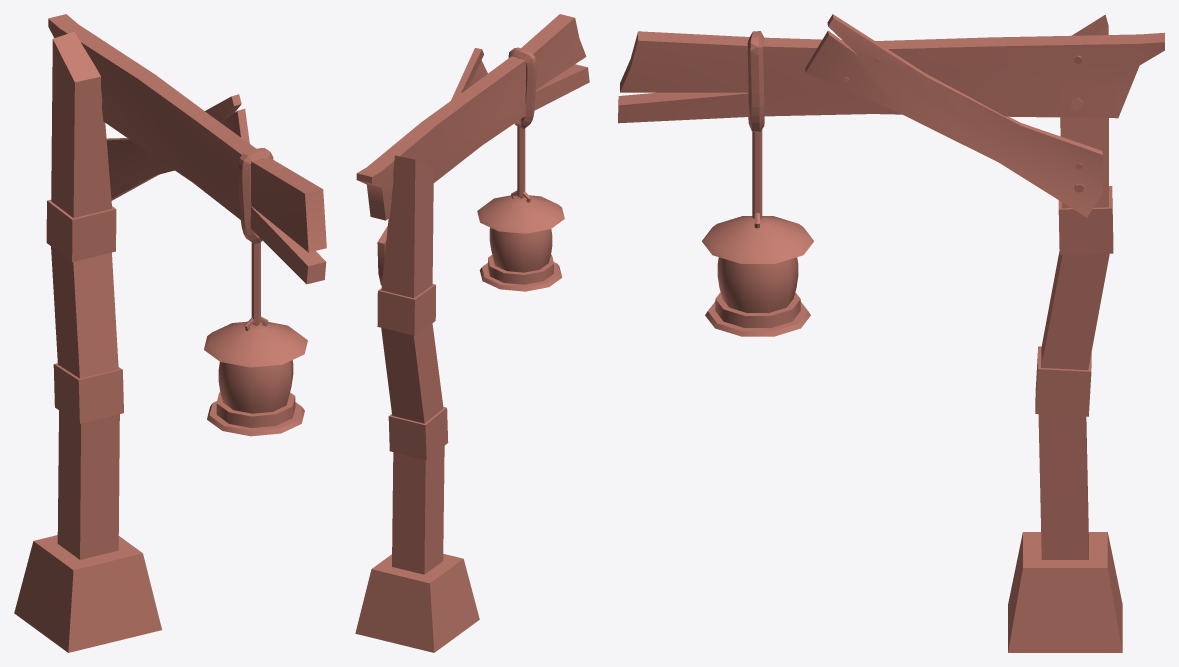
The model's file is NewLamp.fbx.
3 views of the same model, side by side, from view 1: azimuth 30°, elevation 25°; view 2: azimuth 150°, elevation 25°; view 3: azimuth 270°, elevation 25° (orthographic). The views are drawn at different scales.
Parts seen in each view (by area): view 1: LampPost, LampRope; view 2: LampPost, LampRope; view 3: LampPost, LampRope.
Part boxes in pixels (x1,y1,x2,y2): LampPost: (14,14,326,652); LampRope: (238,148,273,243); LampPost: (355,14,589,652); LampRope: (508,47,536,128); LampPost: (618,14,1164,652); LampRope: (747,31,764,131).
Bounding box in the file's own units: 3.3 × 13.06 × 16.66.
